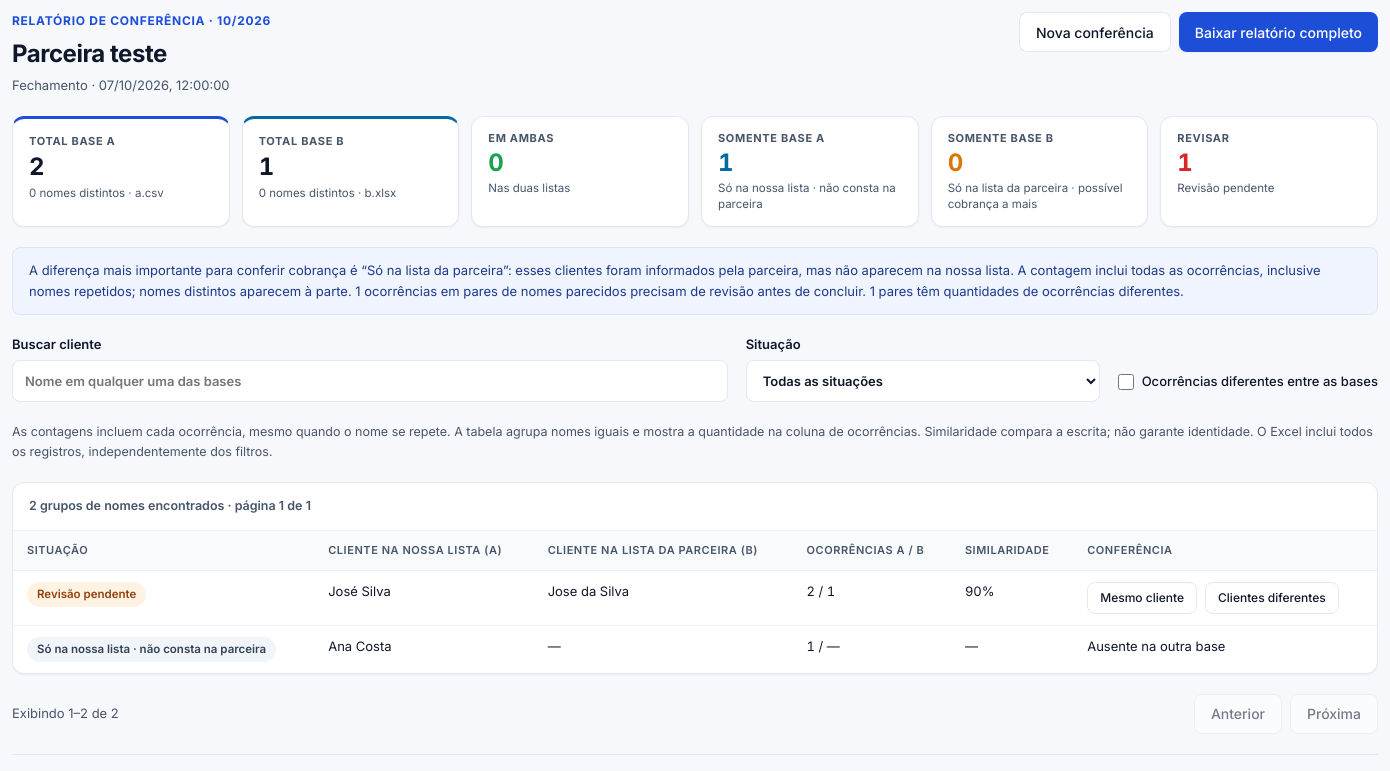
Test: Relatório de conferência › filtra diferenças de ocorrências somente para pares
Click the checkbox labelled "Ocorrências diferentes entre as bases" at [1126, 382], box top-left (1118, 374), bottom-right (1134, 390)
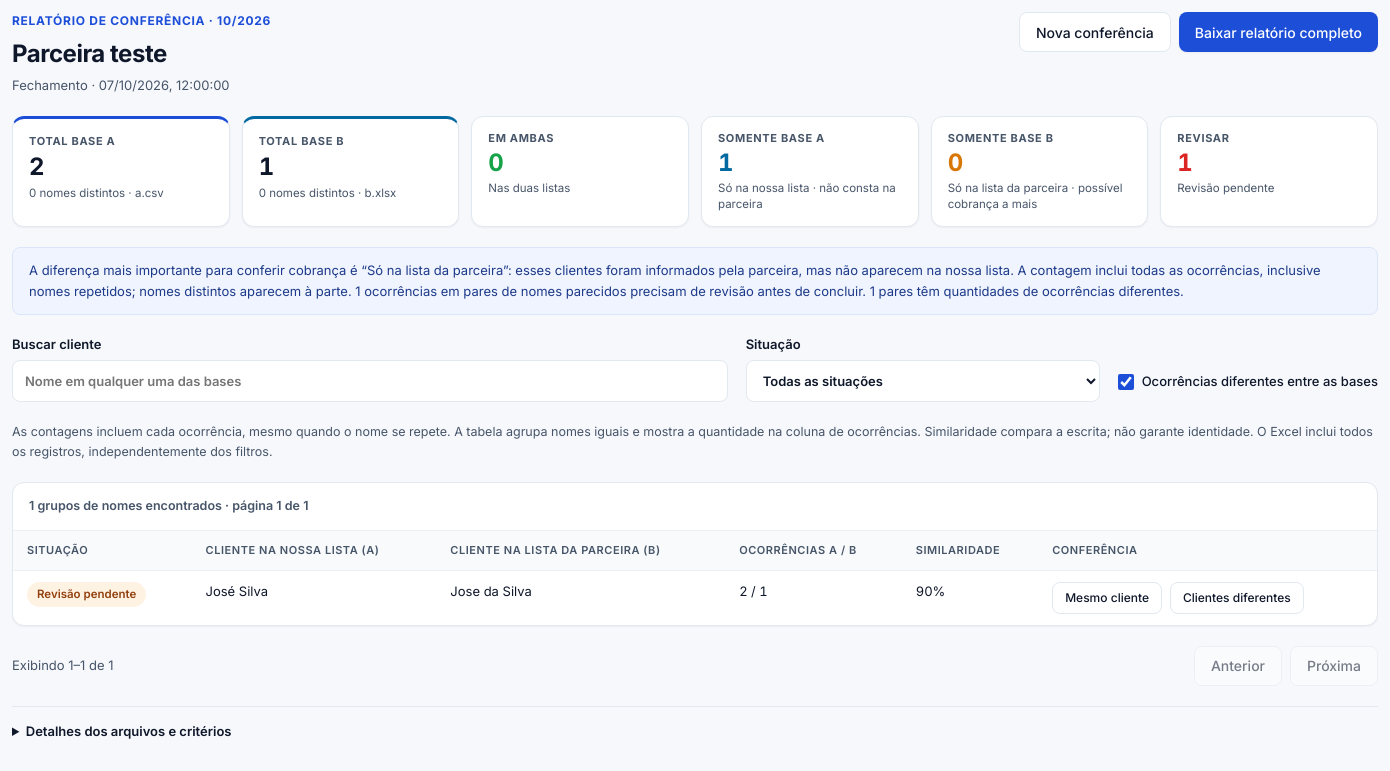
Expected: the text "José Silva" is shown, top-left (192, 570), bottom-right (436, 625)
Now the text "Ana Costa" is gone
